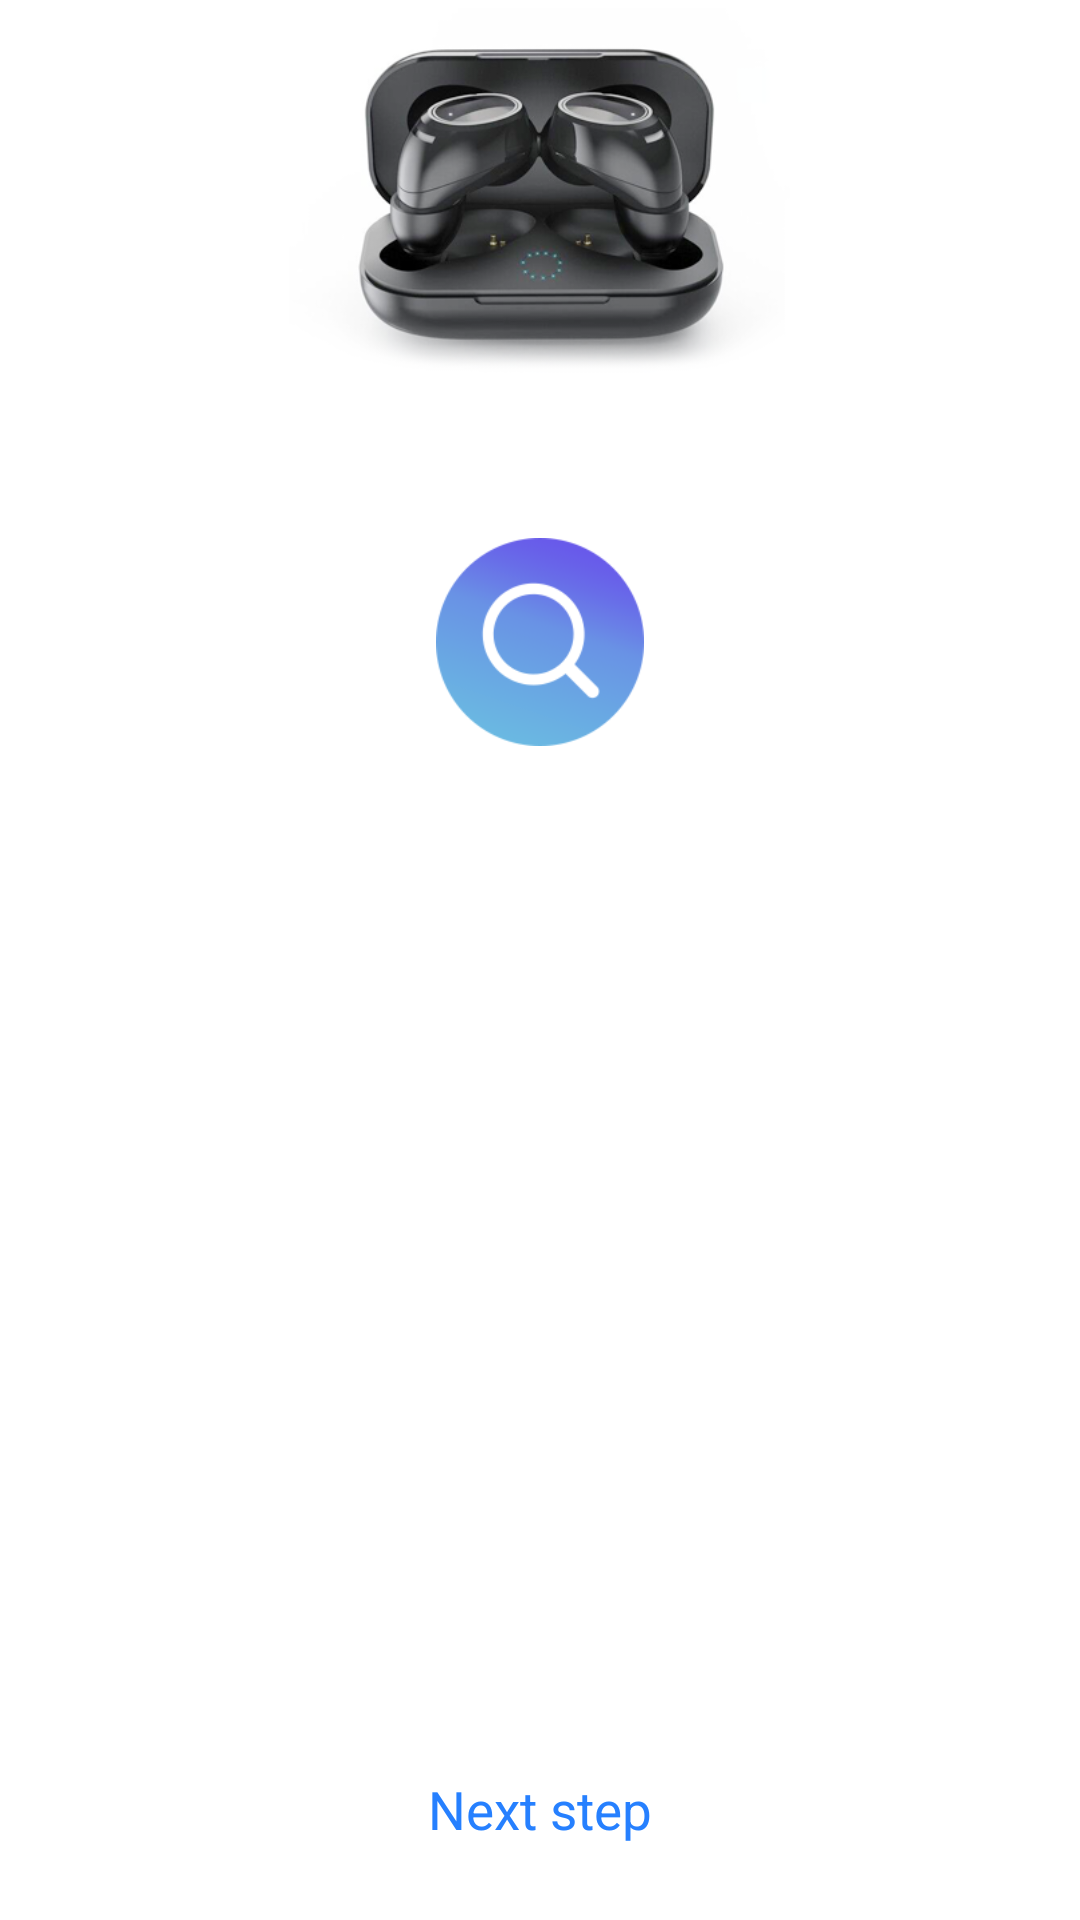

Icons on this 1080 × 1920 Android screen, each with the point to tap as (x,y):
search: (540,642)
